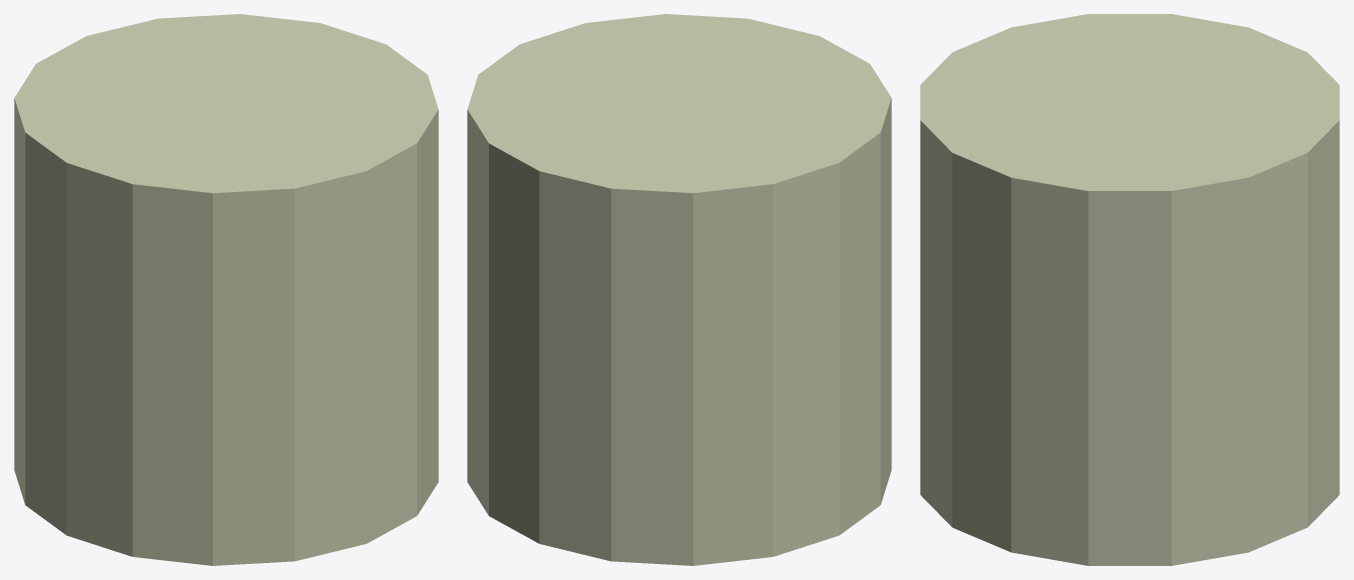
Rendered from Alniyat_Crew_2_1_Collider.obj.
3 views of the same model, side by side, from view 1: azimuth 30°, elevation 25°; view 2: azimuth 150°, elevation 25°; view 3: azimuth 270°, elevation 25° (orthographic).
Visible parts, largest first — view 1: Alniyat_Crew_2_1_Collider; view 2: Alniyat_Crew_2_1_Collider; view 3: Alniyat_Crew_2_1_Collider.
Part boxes in pixels (x1=…): Alniyat_Crew_2_1_Collider: x1=14, y1=14, x2=438, y2=565; Alniyat_Crew_2_1_Collider: x1=467, y1=14, x2=891, y2=565; Alniyat_Crew_2_1_Collider: x1=920, y1=14, x2=1339, y2=565.
Size of the model in its own units: 1.88 by 1.85 by 1.88.
